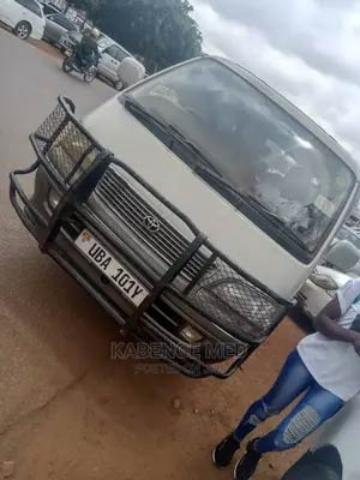van: (8, 54, 359, 378)
